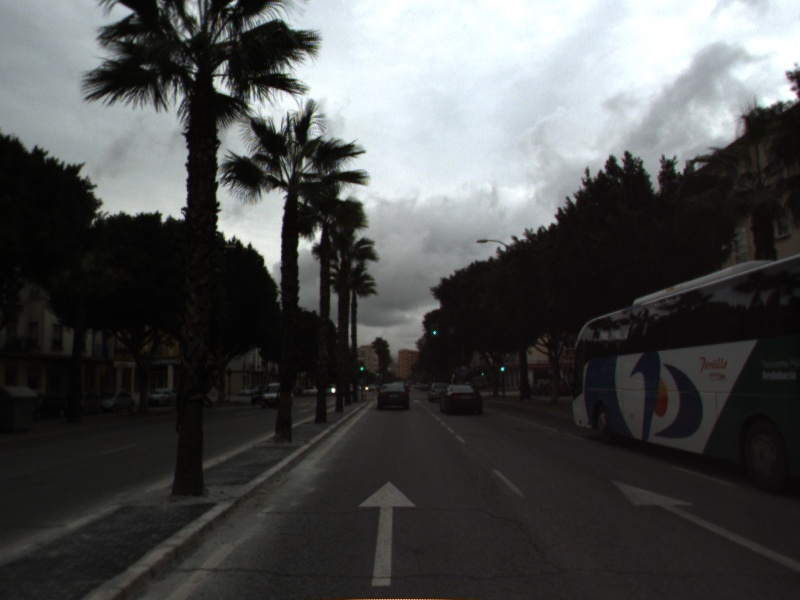STRAIGHT: (608, 478, 800, 574), (355, 478, 419, 588)
